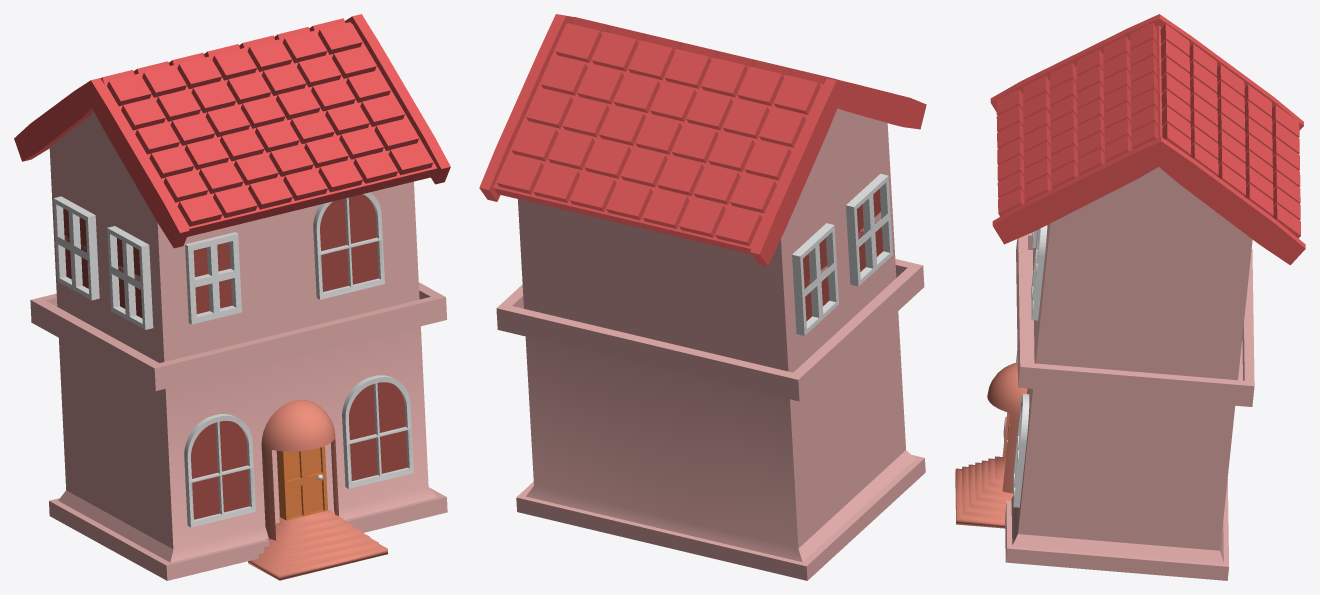
File: house.glb
3 renders of one model, left to right at view 1: azimuth 30°, elevation 25°; view 2: azimuth 150°, elevation 25°; view 3: azimuth 270°, elevation 25°, orthographic. The views are drawn at different scales.
Visible parts, largest first — view 1: Cube.038, Cube.039, Plane.004, Plane.005, Plane.006, Pyramid, Sphere.069, Plane.003; view 2: Cube.038, Cube.039; view 3: Cube.038, Cube.039, Pyramid, Sphere.069, Plane.004, Plane.006.
Boxes of the visible parts, x1,y1,x2,y2 form: Cube.038: [30, 112, 447, 580]; Cube.039: [14, 14, 450, 248]; Plane.004: [342, 375, 413, 488]; Plane.005: [184, 414, 255, 527]; Plane.006: [313, 192, 384, 299]; Pyramid: [248, 509, 388, 580]; Sphere.069: [261, 399, 338, 540]; Plane.003: [276, 446, 327, 520]; Cube.038: [496, 108, 925, 580]; Cube.039: [479, 14, 926, 266]; Cube.038: [1003, 167, 1254, 580]; Cube.039: [990, 14, 1305, 265]; Pyramid: [955, 456, 1013, 528]; Sphere.069: [987, 362, 1027, 493]; Plane.004: [1013, 393, 1029, 507]; Plane.006: [1031, 225, 1047, 320].
Size of the model in its own units: 2.21 by 3.31 by 2.39.
